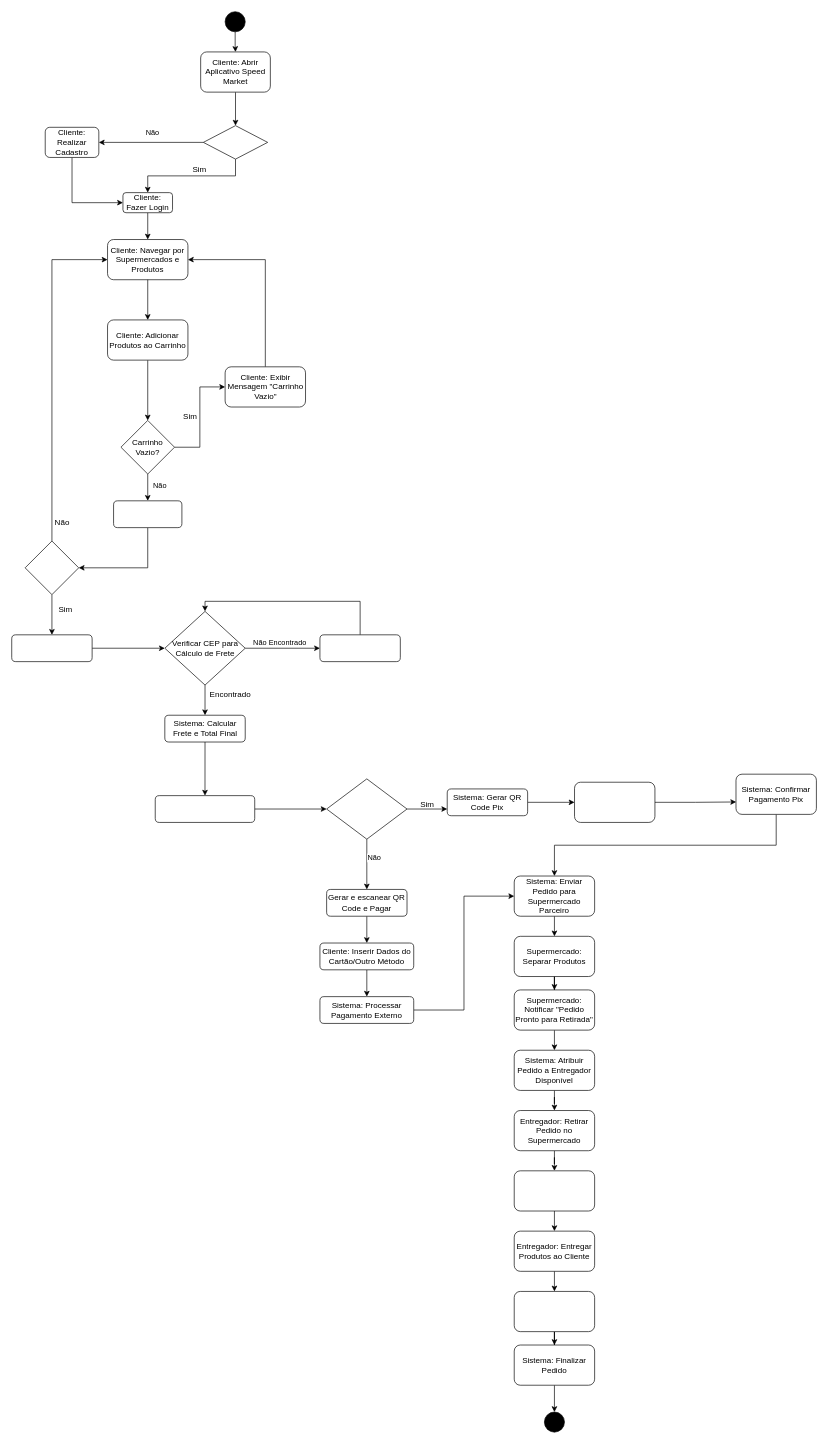
The diagram is 828 pixels wide and 1444 high, and some of its shapes have lost their labels. Here are the shapes that lost their labels. From the top down, the centre of each, then its label:
[235,142]: Possui Cadastro?
[147,514]: Cliente: Visualizar Carrinho e Total
[51,567]: Finalizar compra?
[51,648]: Cliente: Clicar em "Finalizar Compra"
[359,648]: Sistema: Exibir Erro de CEP
[205,808]: Cliente: Preencher Dados de Entrega e Pagamento
[366,808]: Método de Pagamento: Pix?
[614,802]: Cliente: Escanear QR Code e Pagar
[554,1190]: Entregador: Iniciar Entrega
[554,1311]: Cliente: Receber Produtos e Avaliar Entrega/Produtos
